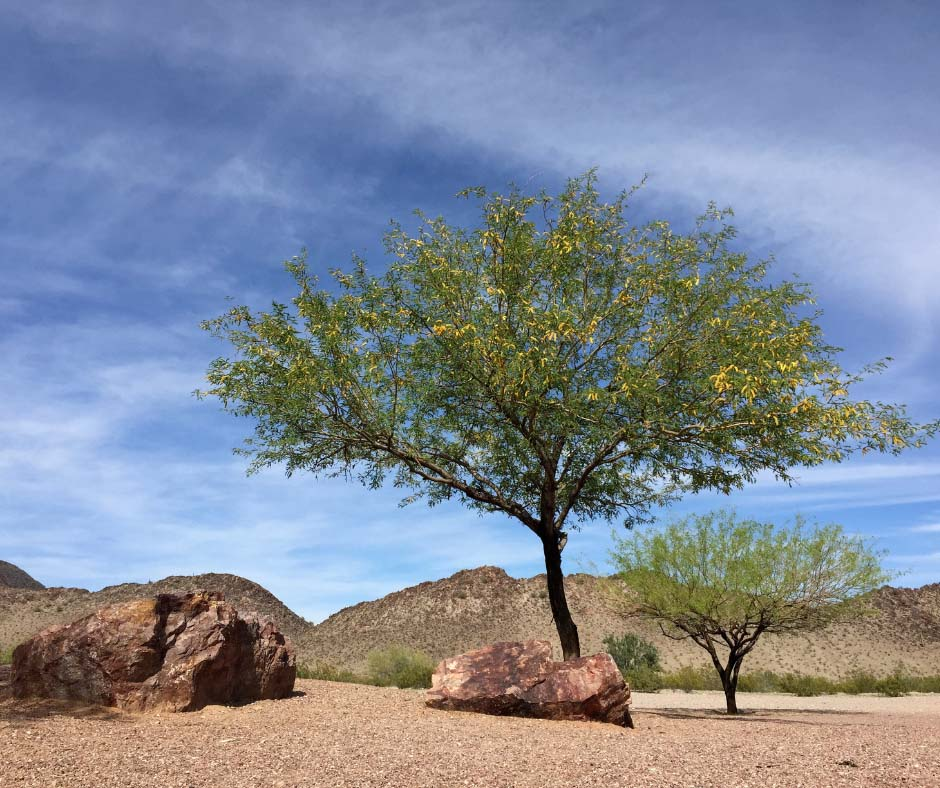dirt: (0, 681, 937, 785)
rock: (12, 590, 296, 712), (430, 643, 629, 727)
tree: (538, 524, 578, 657), (702, 634, 751, 715)
